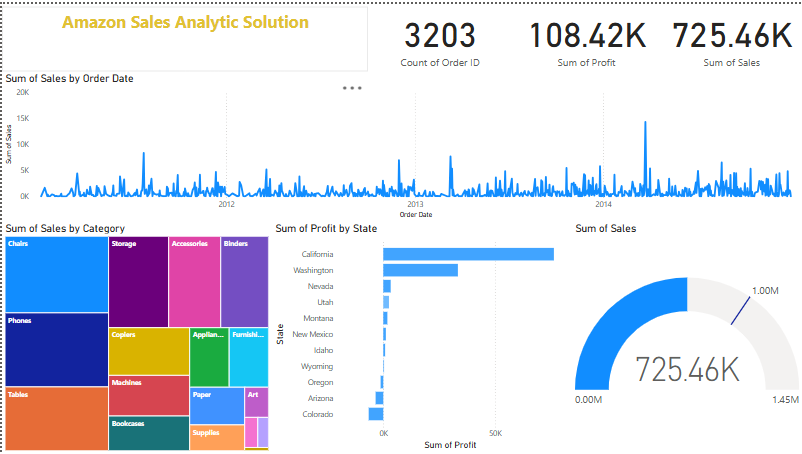

The page's visual inventory and layout, read from the dashboard file:
{"tool":"powerbi","page":{"name":"Page 1","canvas":[1280,720],"ordinal":0},"visuals":[{"type":"card","fields":{"Values":["Sum(Walmart.Sales)"]},"box":[1056.6,0,223.7,108.4],"z":0},{"type":"card","fields":{"Values":["Sum(Walmart.Profit)"]},"box":[813.7,0,242.9,108.4],"z":1},{"type":"card","fields":{"Values":["CountNonNull(Walmart.Order ID)"]},"box":[587.3,0,226.4,108.4],"z":2},{"type":"lineChart","fields":{"Category":["Walmart.Order Date"],"Y":["Sum(Walmart.Sales)"]},"box":[0,108.4,1280.3,240.1],"z":3},{"type":"treemap","fields":{"Group":["Walmart.Category"],"Values":["Sum(Walmart.Sales)"]},"box":[0,348.5,431.7,371.7],"z":4},{"type":"barChart","fields":{"Category":["Walmart.State"],"Y":["Sum(Walmart.Profit)"]},"box":[431.7,348.5,479.4,371.7],"z":5},{"type":"gauge","fields":{"Y":["Sum(Walmart.Sales)"]},"box":[911,348.5,369,371.5],"z":6},{"type":"textbox","box":[0,4.9,587,103.9],"z":7}]}

Visuals, with their boxes in screenshot pixels (x1, y1, x2, y2), scaled from the page's 1280x720 canvas onto the 802x454 screenshot:
card - Sum(Walmart.Sales): [left=662, top=0, right=801, bottom=68]
card - Sum(Walmart.Profit): [left=510, top=0, right=662, bottom=68]
card - CountNonNull(Walmart.Order ID): [left=368, top=0, right=510, bottom=68]
lineChart - Walmart.Order Date x Sum(Walmart.Sales): [left=0, top=68, right=801, bottom=220]
treemap - Walmart.Category x Sum(Walmart.Sales): [left=0, top=220, right=270, bottom=453]
barChart - Walmart.State x Sum(Walmart.Profit): [left=270, top=220, right=571, bottom=453]
gauge - Sum(Walmart.Sales): [left=571, top=220, right=801, bottom=453]
textbox: [left=0, top=3, right=368, bottom=69]
